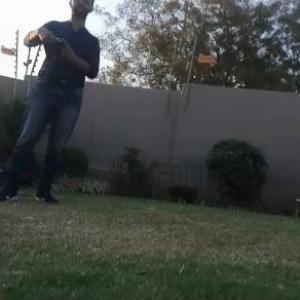follow: (0, 0, 104, 213)
